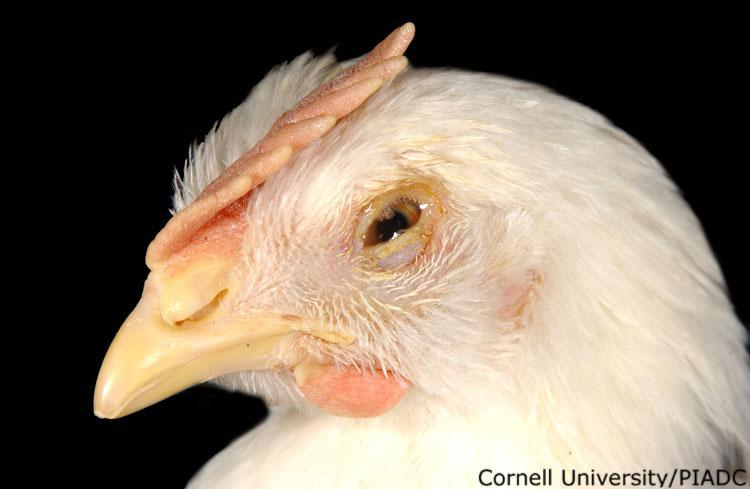AbNormal: (95, 20, 750, 489)
